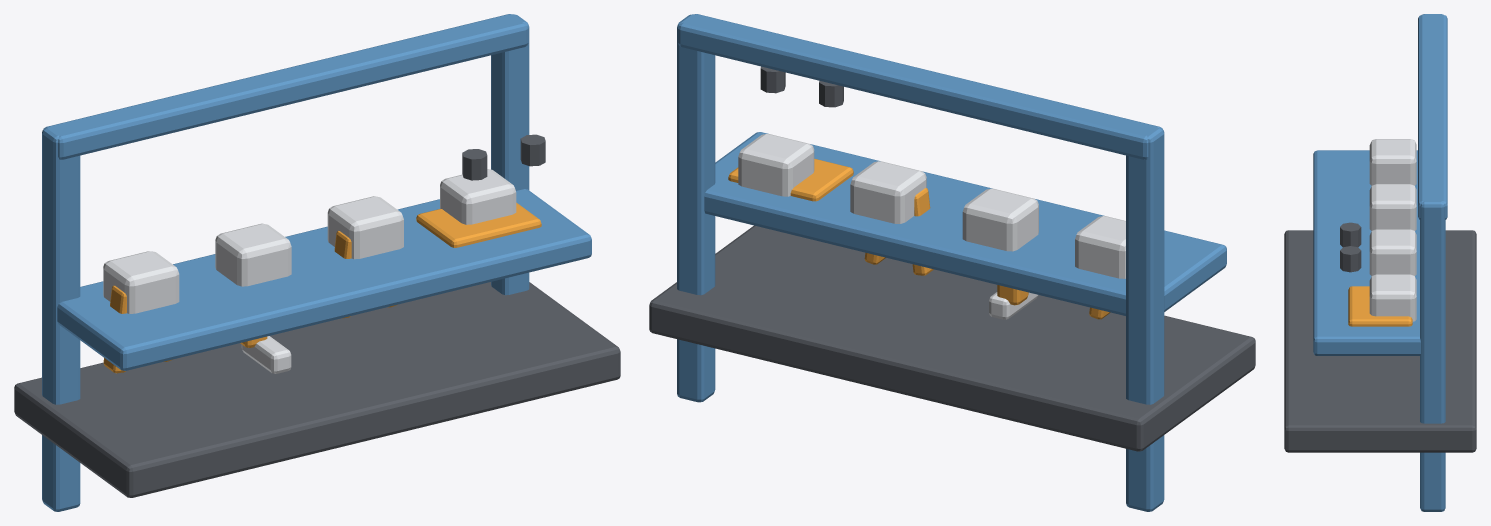
The model's file is btf-tool-rack.glb.
The picture shows the model from 3 angles, left to right: view 1: azimuth 30°, elevation 25°; view 2: azimuth 150°, elevation 25°; view 3: azimuth 270°, elevation 25°; orthographic projection. The views are drawn at different scales.
Visible parts, largest first — view 1: 113-tool-changer-rack/1, 113-tool-changer-rack/0, 113-tool-changer-rack/2, 113-tool-changer-rack/3; view 2: 113-tool-changer-rack/1, 113-tool-changer-rack/0, 113-tool-changer-rack/2, 113-tool-changer-rack/3; view 3: 113-tool-changer-rack/0, 113-tool-changer-rack/1, 113-tool-changer-rack/2, 113-tool-changer-rack/3.
Boxes of the visible parts, left/top/right/bottom form: 113-tool-changer-rack/1: left=42, top=14, right=591, bottom=511; 113-tool-changer-rack/0: left=14, top=134, right=620, bottom=497; 113-tool-changer-rack/2: left=103, top=169, right=516, bottom=373; 113-tool-changer-rack/3: left=103, top=202, right=541, bottom=373; 113-tool-changer-rack/1: left=677, top=14, right=1226, bottom=511; 113-tool-changer-rack/0: left=649, top=66, right=1255, bottom=451; 113-tool-changer-rack/2: left=738, top=134, right=1125, bottom=319; 113-tool-changer-rack/3: left=728, top=158, right=1110, bottom=319; 113-tool-changer-rack/0: left=1284, top=222, right=1476, bottom=452; 113-tool-changer-rack/1: left=1313, top=14, right=1447, bottom=511; 113-tool-changer-rack/2: left=1369, top=139, right=1416, bottom=321; 113-tool-changer-rack/3: left=1348, top=286, right=1412, bottom=326.
Bounding box in the file's own units: 72087 × 52430 × 29491.
